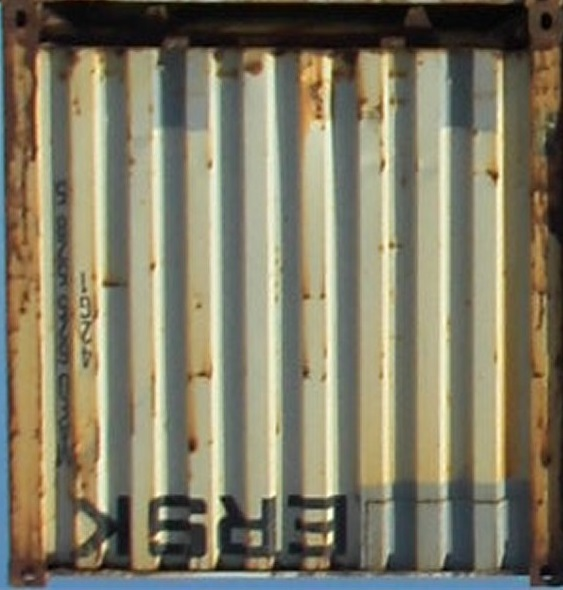container_no_door: (11, 8, 550, 583)
